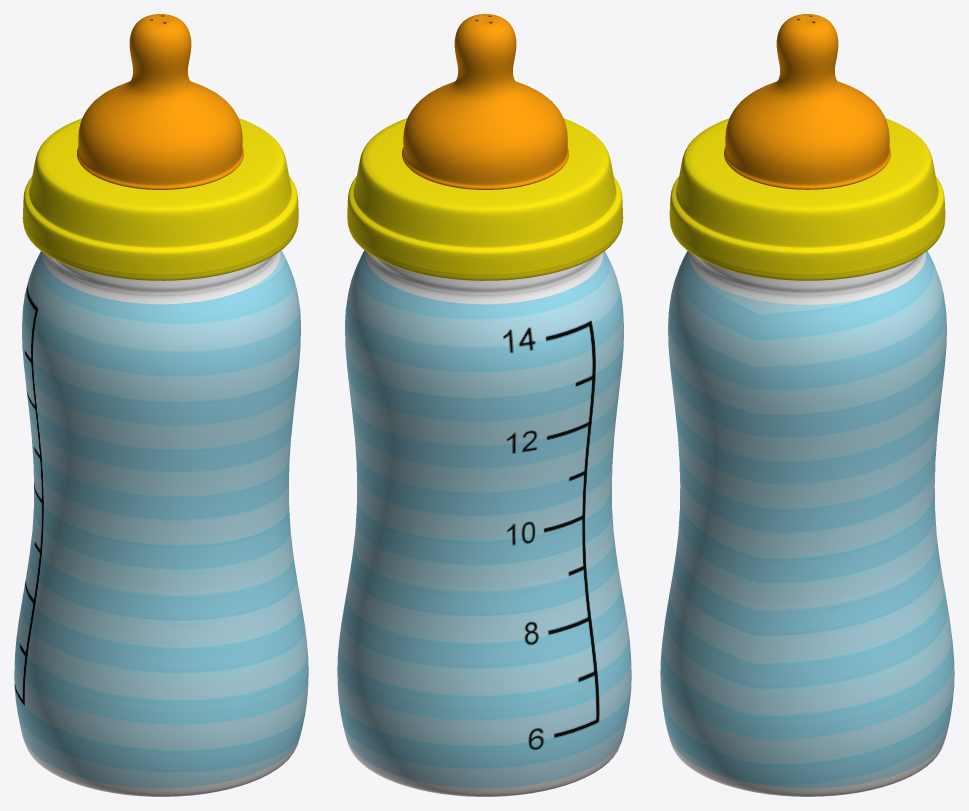
Rendered from baby bottle.glb.
The picture shows the model from 3 angles, left to right: view 1: azimuth 30°, elevation 25°; view 2: azimuth 150°, elevation 25°; view 3: azimuth 270°, elevation 25°; orthographic projection.
Parts seen in each view (by area): view 1: 10904_babybottle_v5_L3; view 2: 10904_babybottle_v5_L3; view 3: 10904_babybottle_v5_L3.
Boxes of the visible parts, x1=… form: 10904_babybottle_v5_L3: x1=14, y1=14, x2=308, y2=796; 10904_babybottle_v5_L3: x1=337, y1=14, x2=631, y2=796; 10904_babybottle_v5_L3: x1=660, y1=14, x2=954, y2=796.
Size of the model in its own units: 2.27 by 6.14 by 2.27.
Materials: 1 (1 with a texture image).
